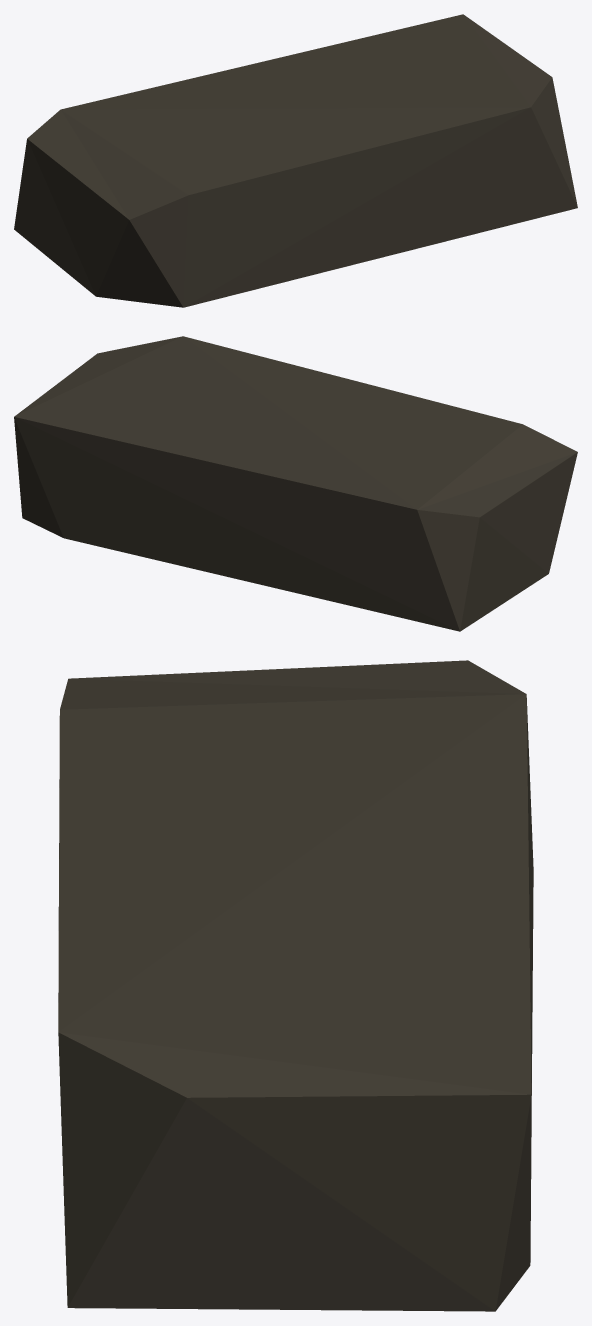
Rendered from Brick_Single_6.fbx.
The picture shows the model from 3 angles, top to bottom: view 1: azimuth 30°, elevation 25°; view 2: azimuth 150°, elevation 25°; view 3: azimuth 270°, elevation 25°; orthographic projection. The views are drawn at different scales.
Parts seen in each view (by area): view 1: Group59313; view 2: Group59313; view 3: Group59313.
Boxes of the visible parts, <box> form: Group59313: <box>14,14,577,307</box>; Group59313: <box>14,336,577,631</box>; Group59313: <box>58,660,533,1311</box>.
Size of the model in its own units: 1.74 by 0.4271 by 0.7927.
